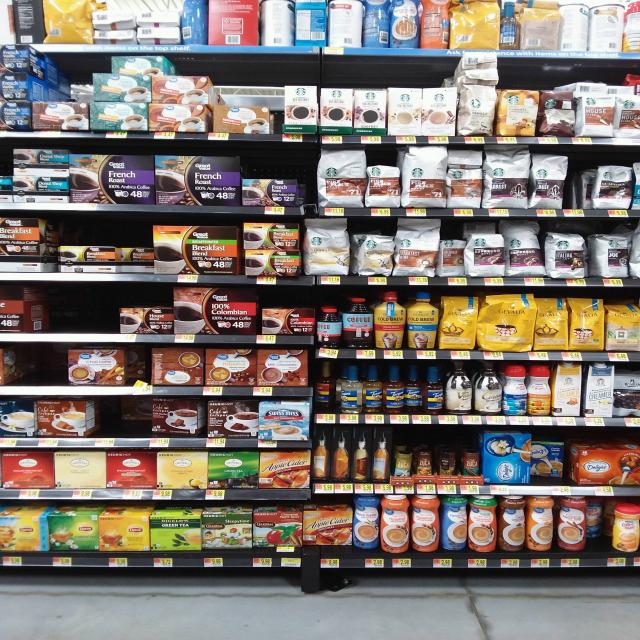void: (8, 344, 64, 395), (27, 282, 70, 342), (73, 284, 116, 343)
